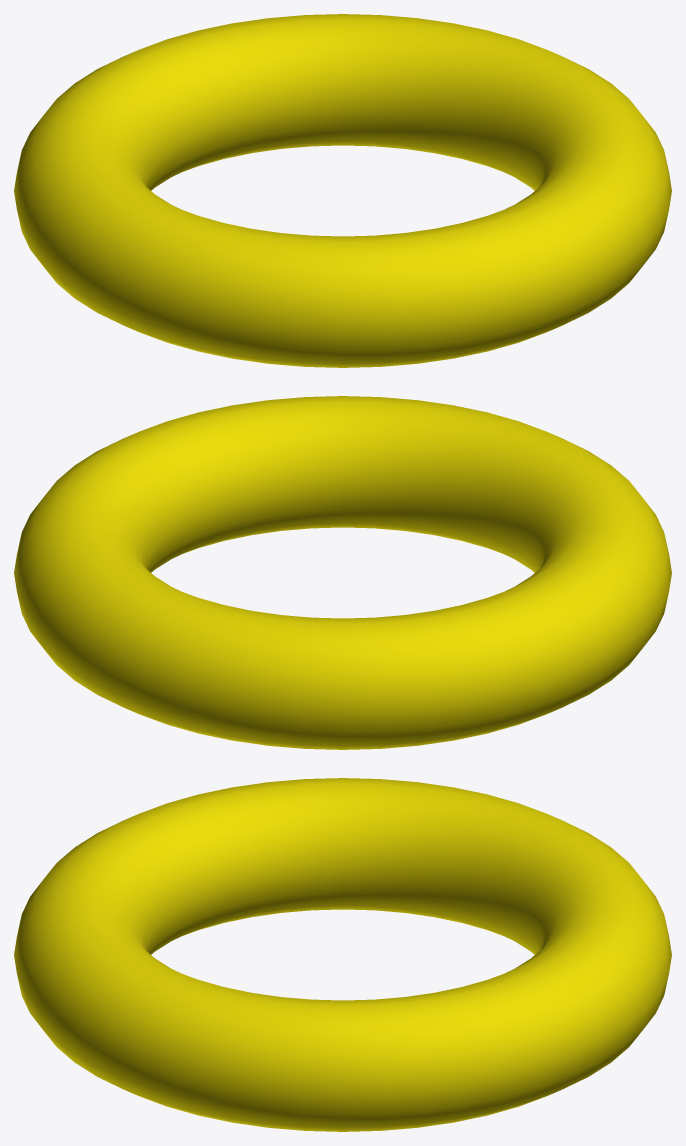
The model's file is RingShape.fbx.
3 views of the same model, one above another, from view 1: azimuth 30°, elevation 25°; view 2: azimuth 150°, elevation 25°; view 3: azimuth 270°, elevation 25° (orthographic).
Parts seen in each view (by area): view 1: Torus; view 2: Torus; view 3: Torus.
Boxes of the visible parts, box(x1,y1,x2,y2) form: Torus: box(14, 14, 671, 367); Torus: box(14, 396, 671, 749); Torus: box(14, 778, 671, 1131).
Bounding box in the file's own units: 2.5 × 0.5 × 2.5.
